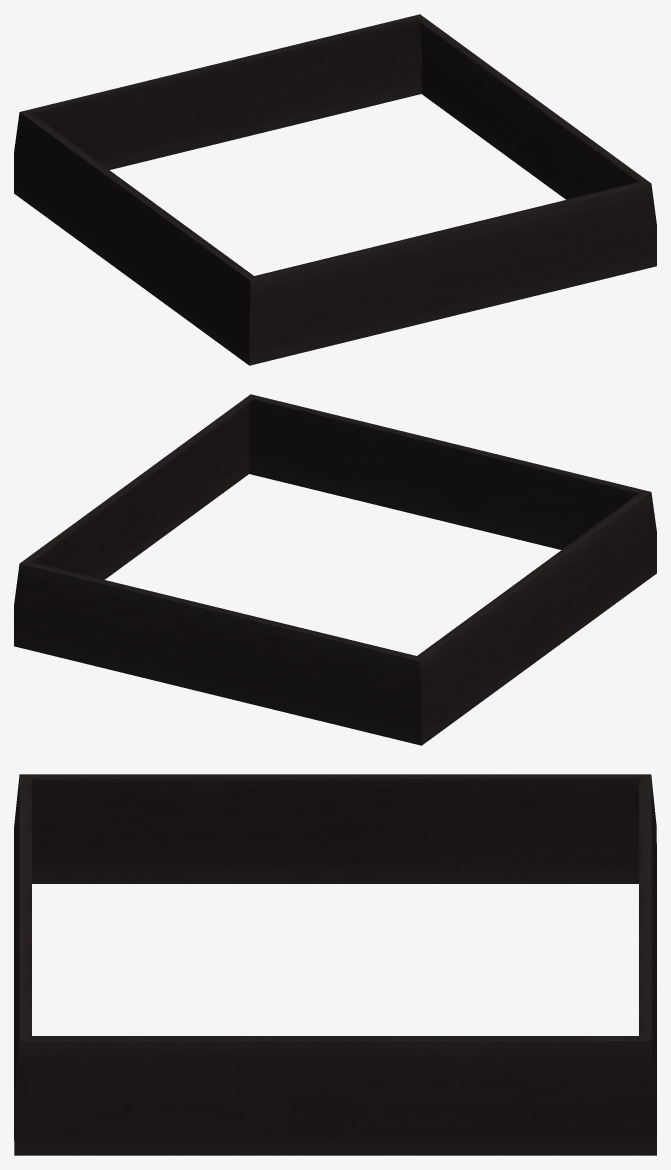
File: SkirtingColumnA.fbx
The picture shows the model from 3 angles, top to bottom: view 1: azimuth 30°, elevation 25°; view 2: azimuth 150°, elevation 25°; view 3: azimuth 270°, elevation 25°; orthographic projection. The views are drawn at different scales.
Parts seen in each view (by area): view 1: SkirtingColumnA; view 2: SkirtingColumnA; view 3: SkirtingColumnA.
Boxes of the visible parts, bbox=[...] form: SkirtingColumnA: bbox=[14, 14, 656, 365]; SkirtingColumnA: bbox=[14, 394, 656, 745]; SkirtingColumnA: bbox=[14, 774, 656, 1155].
Size of the model in its own units: 104 by 20 by 104.
